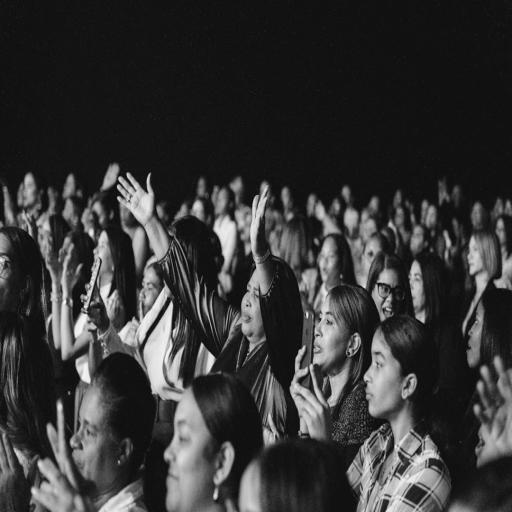face: (160, 399, 205, 512), (69, 388, 108, 484), (364, 340, 392, 422), (313, 299, 339, 369), (240, 272, 266, 342), (372, 265, 398, 323), (464, 300, 486, 368), (136, 270, 162, 316), (316, 239, 340, 287), (465, 237, 483, 277)
